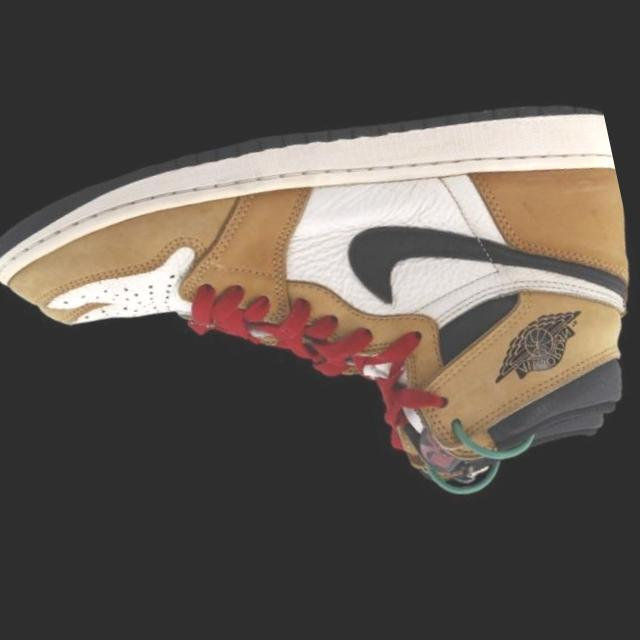nike_original_jordan: (0, 47, 640, 564), (25, 193, 622, 543)
